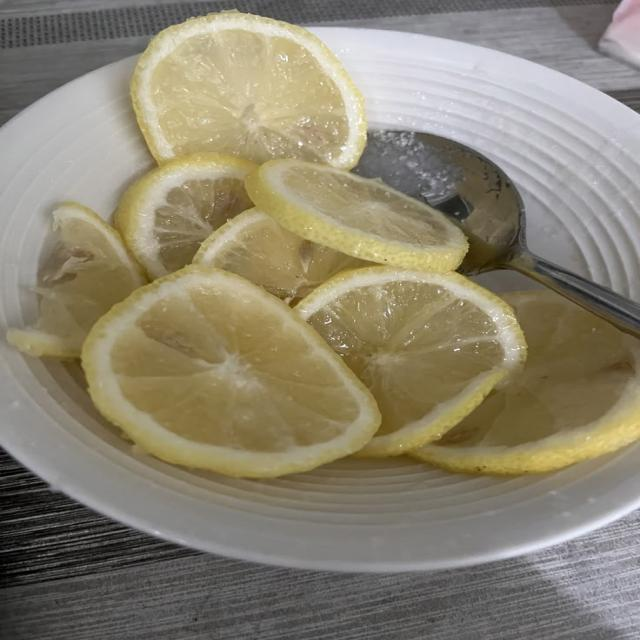lemon: (82, 265, 379, 477), (296, 267, 526, 456), (415, 291, 639, 474), (132, 12, 366, 167), (246, 160, 467, 272), (7, 203, 146, 358), (115, 154, 256, 279), (194, 209, 370, 303)
